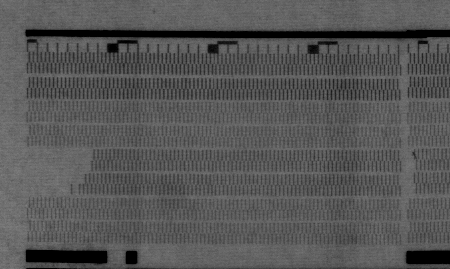Broken hole: (25, 142, 95, 198), (405, 147, 418, 195)
